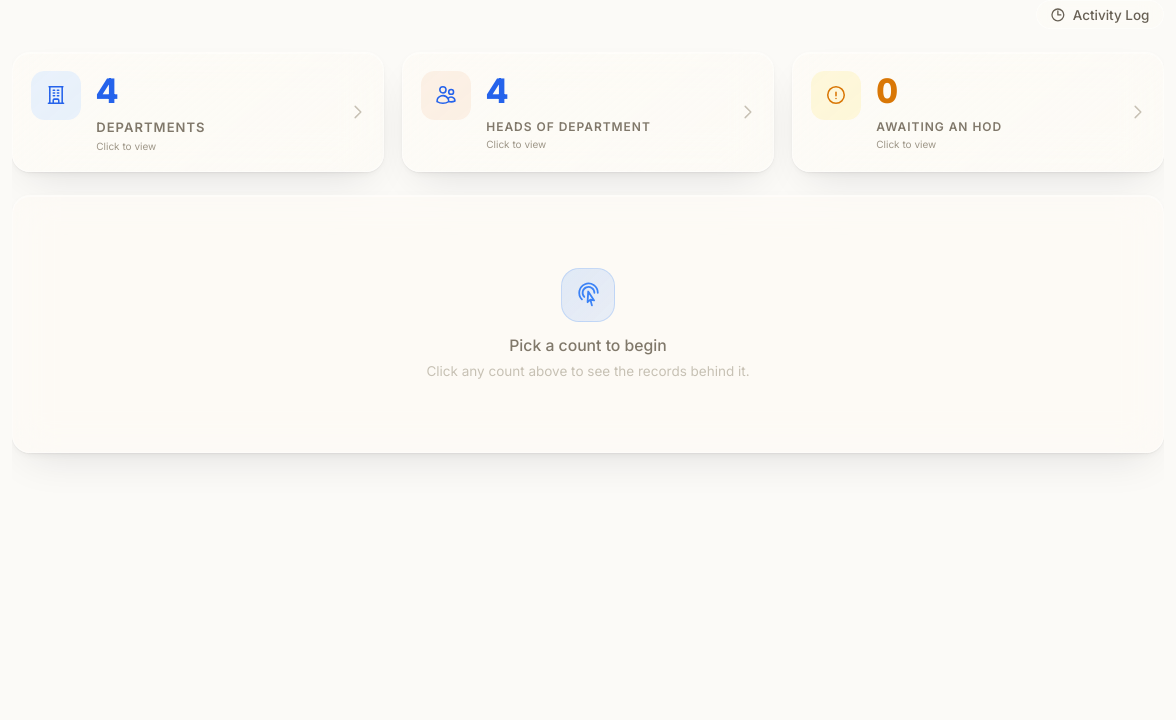
Scenario: AdminPanel â€” Awaiting an HOD › shows a reassuring empty state when every department has an HOD
Click the button "0 Awaiting an HOD Click to view" at (836, 95), box top-left (792, 52), bottom-right (1164, 172)
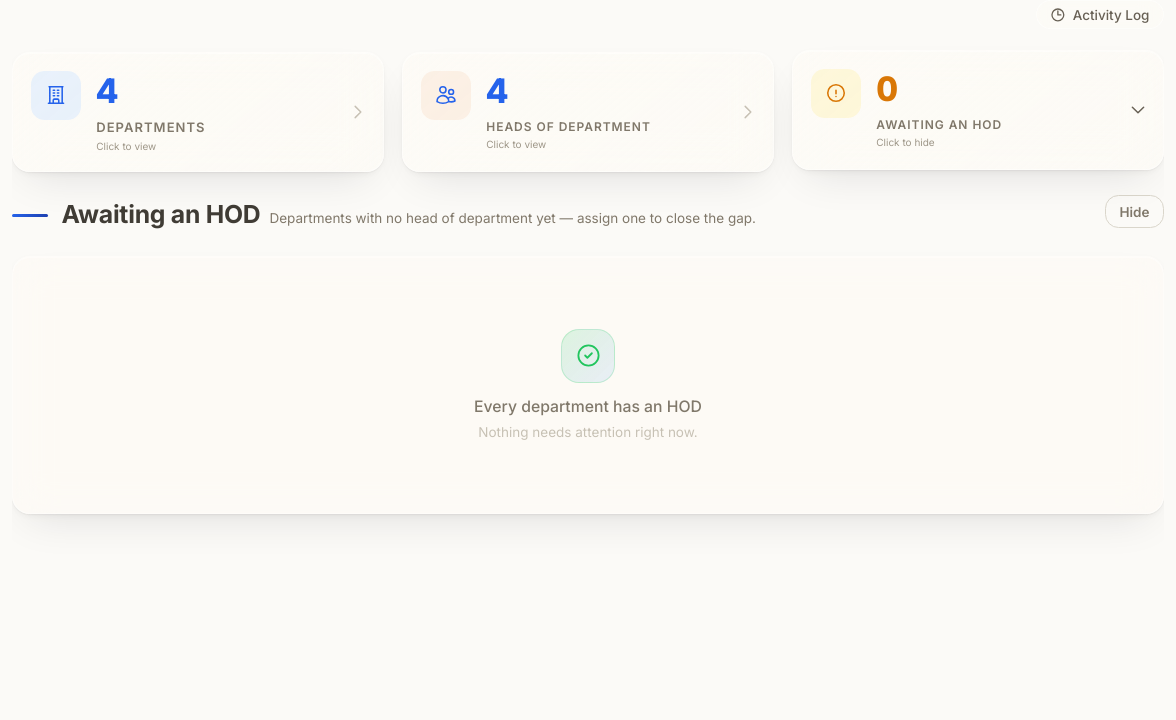
Result: the text "Every department has an HOD" is shown at top-left (474, 397), bottom-right (702, 416)
